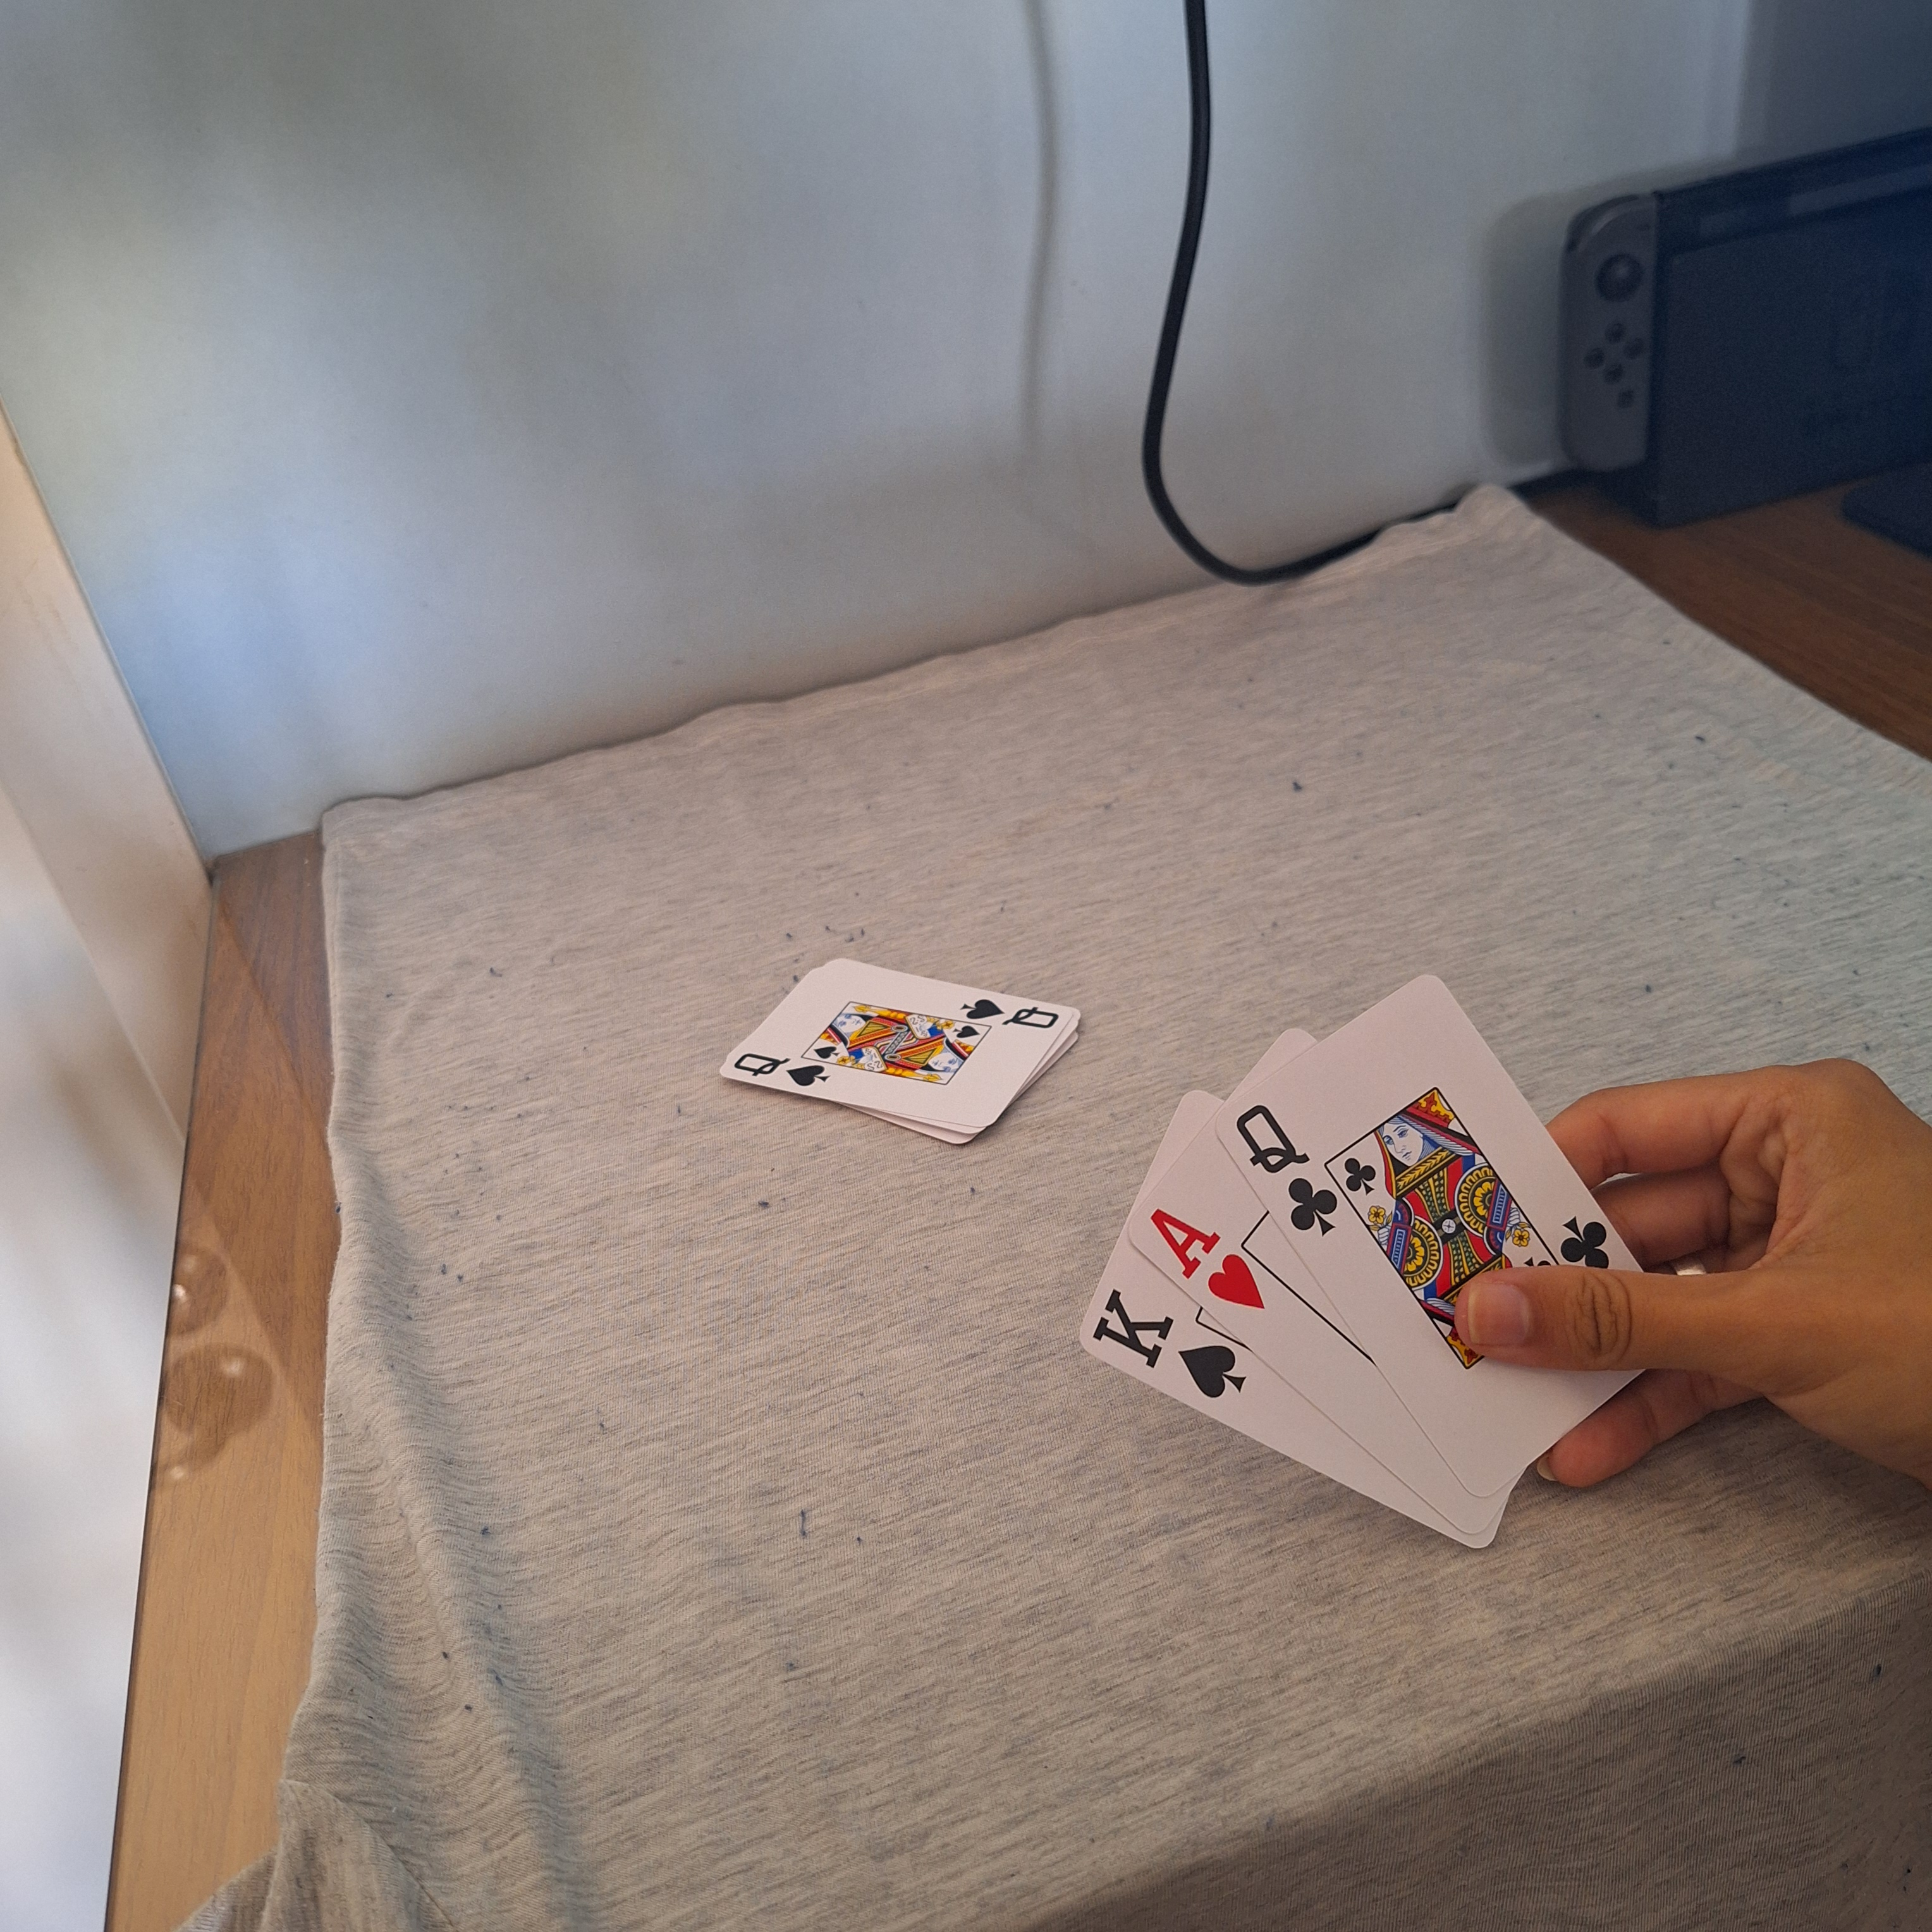AC: (1146, 1205, 1274, 1316)
KE: (1088, 1286, 1247, 1401)
QE: (732, 1051, 830, 1092), (959, 996, 1060, 1033)
QP: (1231, 1097, 1345, 1240)
